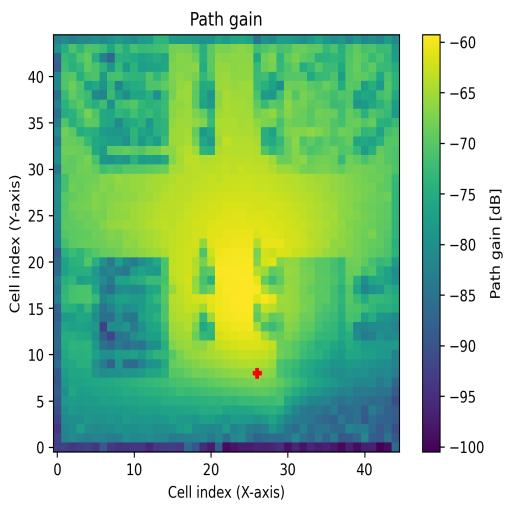Concrete: (277, 53, 345, 165)
Glass: (100, 56, 168, 174)
Metal: (278, 258, 348, 376)
Wood: (92, 257, 170, 377)
